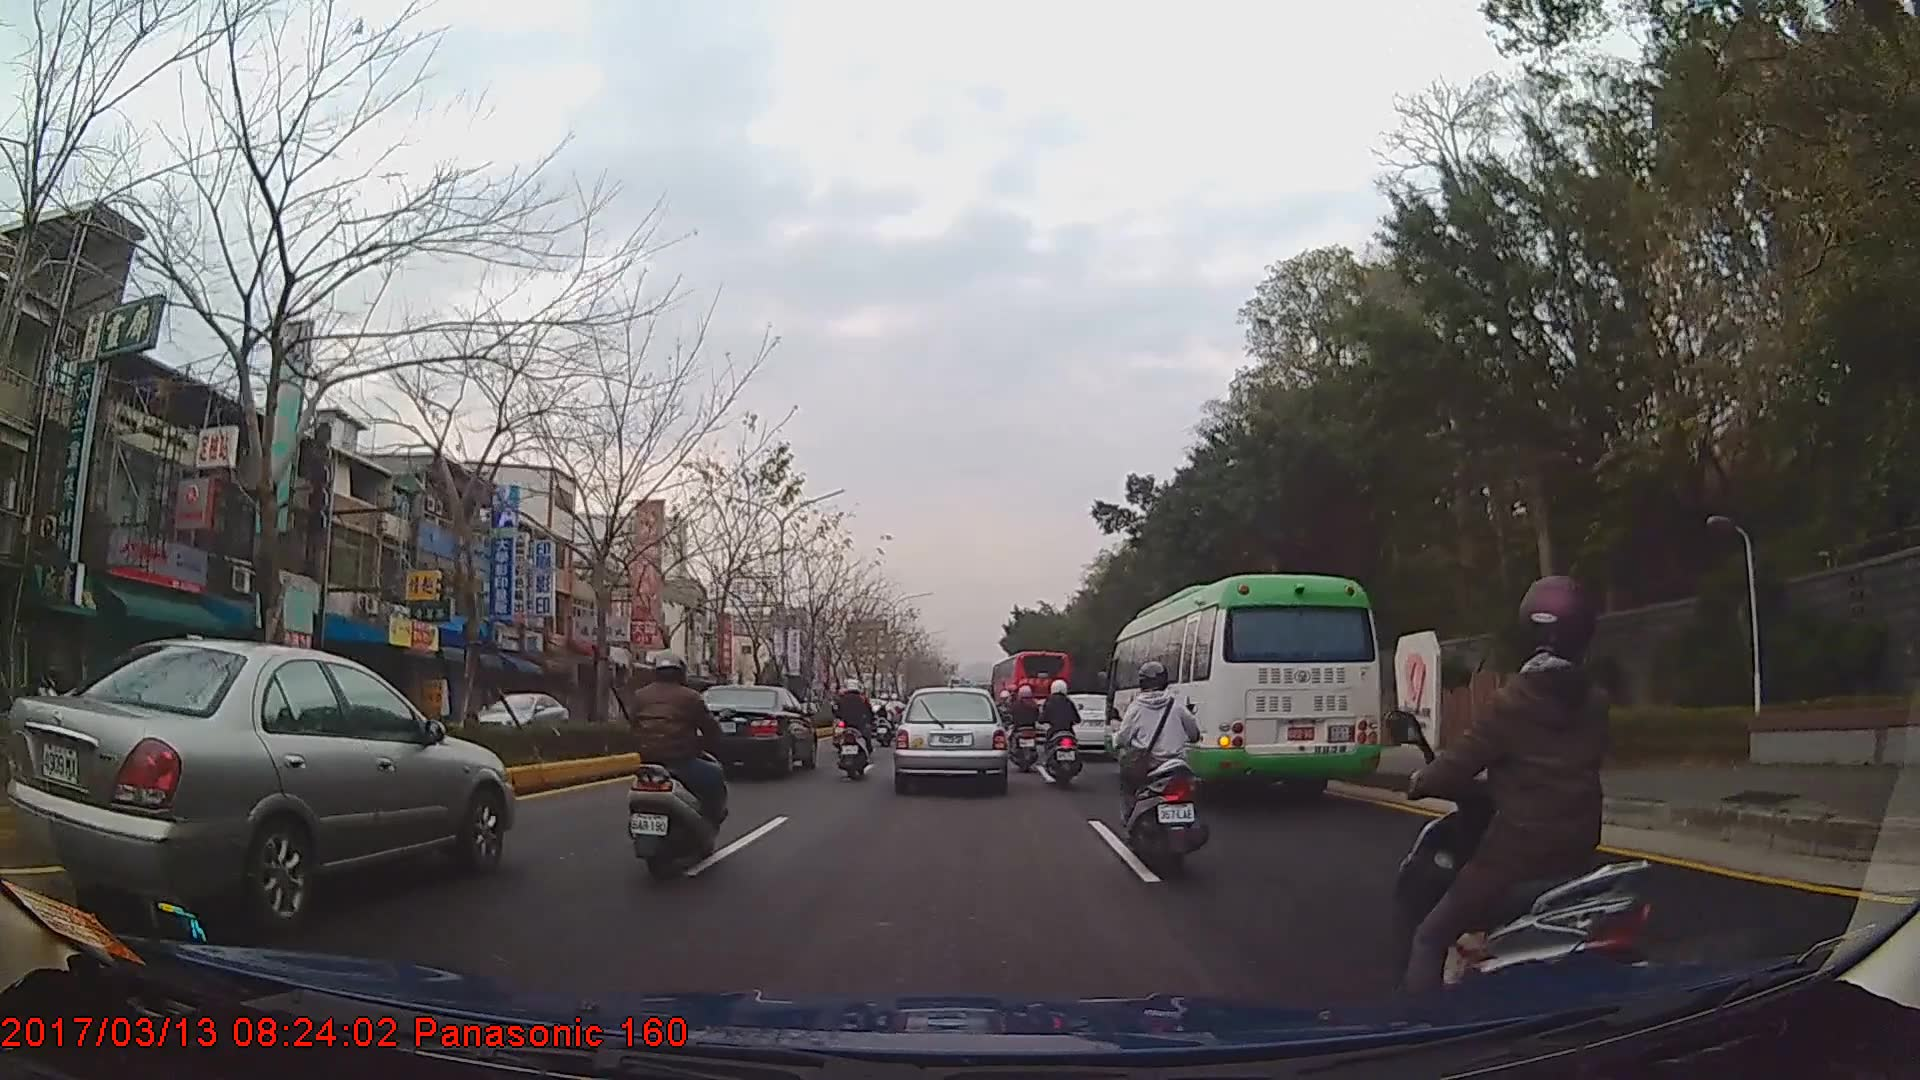rider: (1388, 571, 1659, 1041), (628, 646, 729, 883), (1118, 662, 1210, 879), (1040, 679, 1085, 786), (835, 678, 878, 780), (1009, 681, 1045, 773), (873, 692, 899, 746)
vehicle: (4, 636, 515, 917), (1104, 572, 1380, 800), (680, 683, 818, 774), (894, 686, 1008, 793), (992, 645, 1072, 738), (462, 689, 571, 747)
